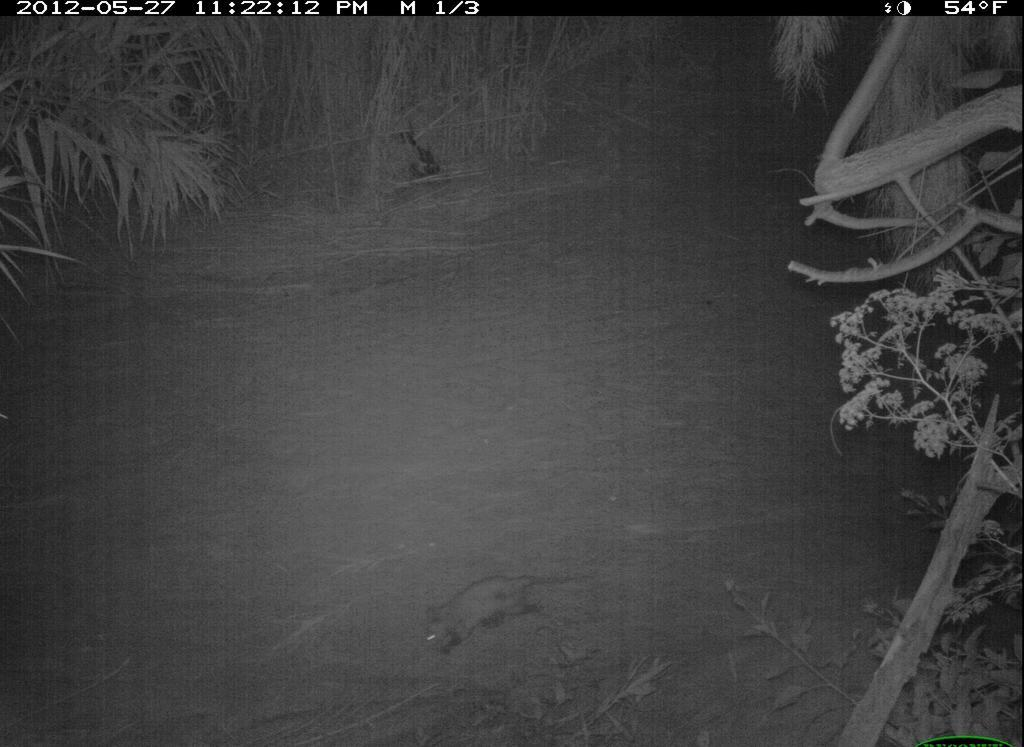opossum: (413, 565, 584, 660)
